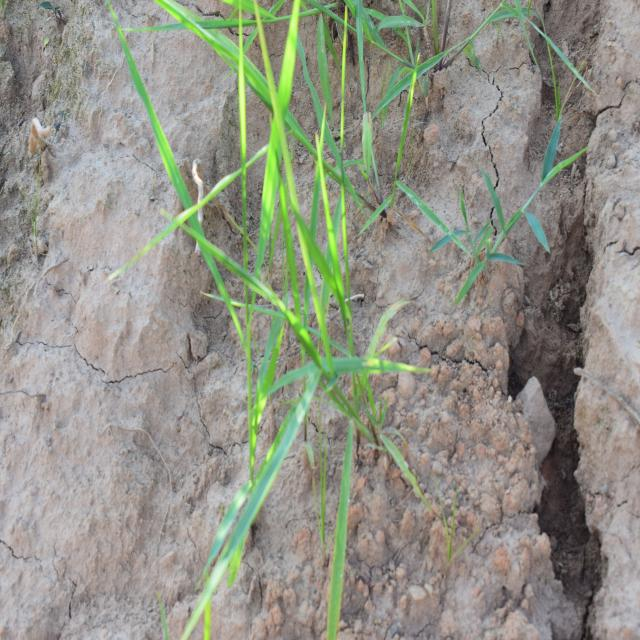green_foxtail: (218, 168, 408, 504)
